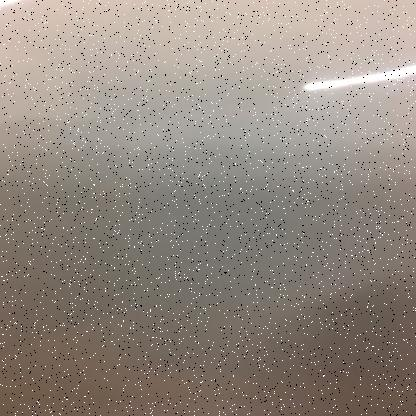Nocrack: (19, 19, 386, 391)
